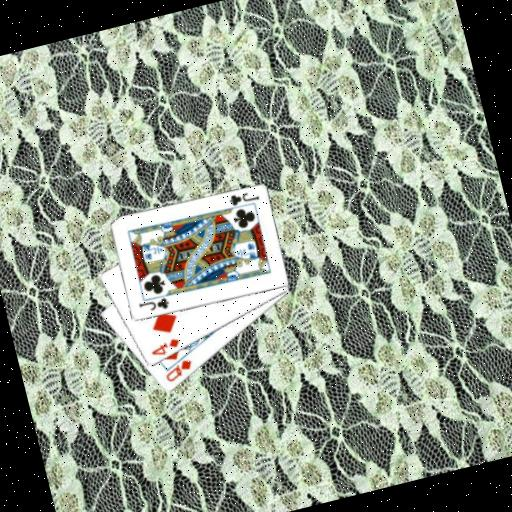4D: (146, 335, 183, 361)
JC: (135, 294, 172, 318), (225, 186, 261, 209)
QD: (160, 355, 197, 385)
